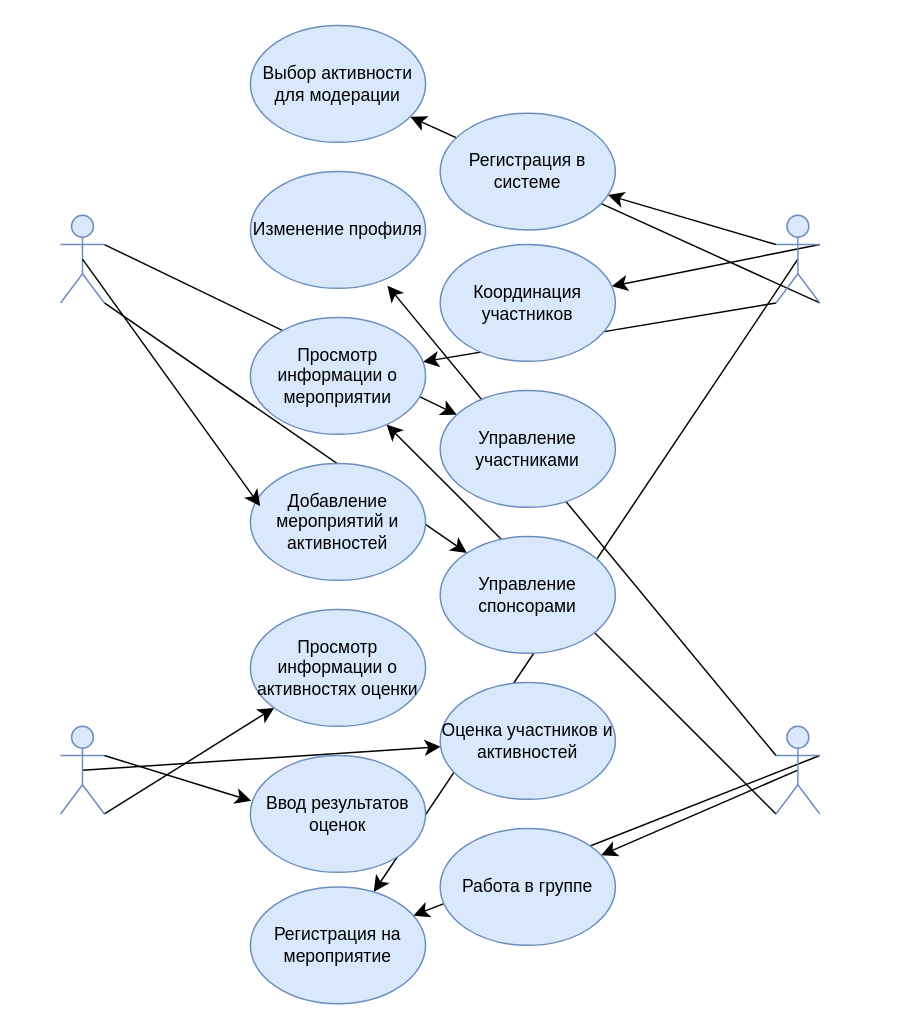
Some shapes in this 911 by 1029 pixel diagram are drawn without their labels. Here are the shapes that lost their labels. From the top down, the centre of each, then its label:
At point (81, 258): "Организаторы".
At point (797, 258): "Модераторы".
At point (81, 769): "Жюри".
At point (797, 769): "Зарегистрированный пользователь".
